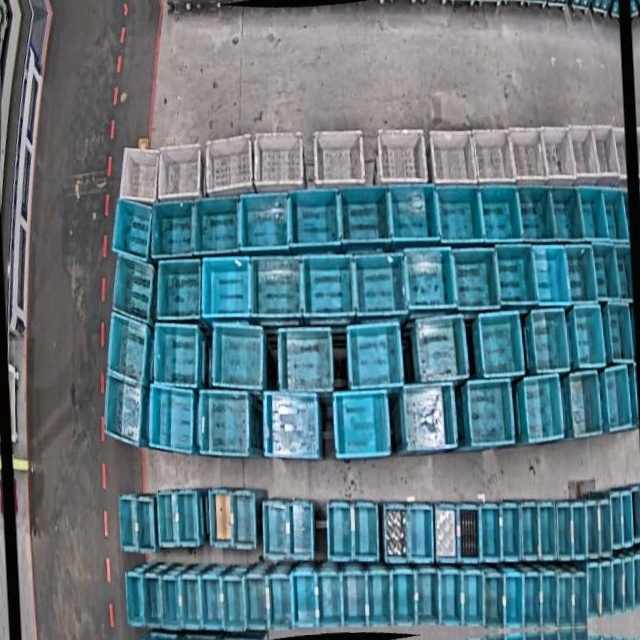Box: (343, 319, 403, 392), (330, 389, 391, 460), (262, 392, 322, 462), (209, 321, 267, 393), (274, 326, 333, 396), (196, 388, 252, 461), (142, 384, 197, 457), (147, 320, 203, 391), (107, 251, 159, 326), (248, 253, 304, 322), (99, 312, 151, 386), (100, 376, 150, 451), (198, 254, 252, 322), (401, 382, 452, 454), (413, 315, 465, 385), (302, 252, 357, 318), (351, 251, 405, 317), (152, 255, 204, 323), (253, 127, 307, 192), (203, 134, 256, 200), (313, 126, 367, 189), (337, 184, 391, 247), (465, 379, 514, 448), (404, 247, 456, 312), (285, 187, 339, 249), (239, 190, 292, 252), (478, 310, 526, 378), (377, 127, 429, 189), (389, 182, 440, 245), (191, 194, 242, 256), (108, 196, 155, 263), (148, 197, 197, 260), (433, 182, 482, 244), (154, 143, 203, 205), (429, 128, 477, 191), (523, 375, 567, 443), (453, 247, 500, 310), (115, 145, 162, 207), (527, 308, 568, 374), (496, 243, 537, 308), (471, 128, 515, 188), (478, 184, 521, 245), (509, 126, 549, 186), (516, 183, 554, 243), (531, 245, 568, 306), (567, 372, 601, 437), (570, 305, 604, 369), (541, 126, 576, 184), (549, 184, 584, 242), (602, 367, 633, 432), (262, 500, 293, 561), (564, 244, 595, 304), (227, 489, 257, 550), (578, 183, 609, 241), (352, 500, 381, 562), (603, 302, 632, 364), (407, 503, 436, 564), (205, 486, 233, 548), (325, 500, 353, 561), (569, 126, 600, 181), (591, 243, 620, 301), (591, 126, 622, 180), (382, 503, 409, 565), (173, 491, 202, 548), (287, 502, 315, 561), (315, 570, 343, 628), (340, 572, 367, 628), (433, 502, 458, 562), (244, 575, 270, 632), (291, 571, 317, 627), (367, 569, 392, 627), (603, 186, 629, 241), (392, 571, 417, 628), (477, 503, 501, 562), (199, 575, 224, 631), (267, 574, 292, 630), (415, 569, 440, 625), (438, 571, 463, 627), (220, 577, 245, 632), (503, 571, 526, 629), (457, 506, 480, 564), (499, 502, 521, 562), (482, 572, 505, 629), (179, 577, 202, 632), (520, 501, 541, 561), (141, 574, 163, 630), (136, 497, 158, 553), (462, 571, 484, 627), (537, 502, 557, 561), (160, 579, 182, 630), (119, 495, 138, 554), (539, 572, 559, 628), (555, 502, 574, 560), (554, 571, 573, 628), (524, 574, 544, 628), (125, 572, 144, 628), (583, 500, 600, 559), (571, 573, 589, 628), (571, 502, 588, 560), (584, 564, 601, 619), (598, 560, 614, 617), (616, 491, 632, 548), (598, 500, 612, 559), (611, 558, 625, 616), (610, 493, 624, 551), (621, 490, 634, 547), (622, 557, 635, 613), (630, 486, 640, 545), (632, 555, 640, 610)
